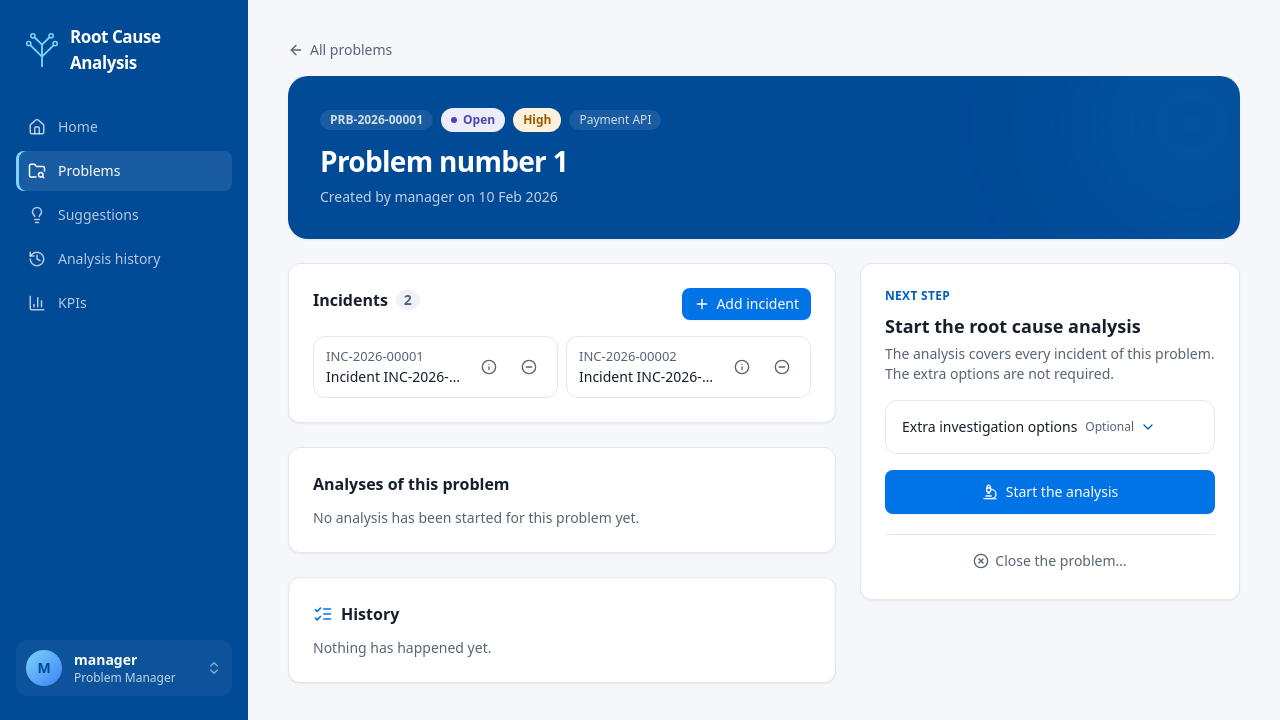
Test case: Problem page › keeps the dialog open and says why when the server refuses
The width and height of the screenshot is (1280, 720).
Click the button "Close the problem…".
click(1050, 561)  # box 965,547 -> 1135,575
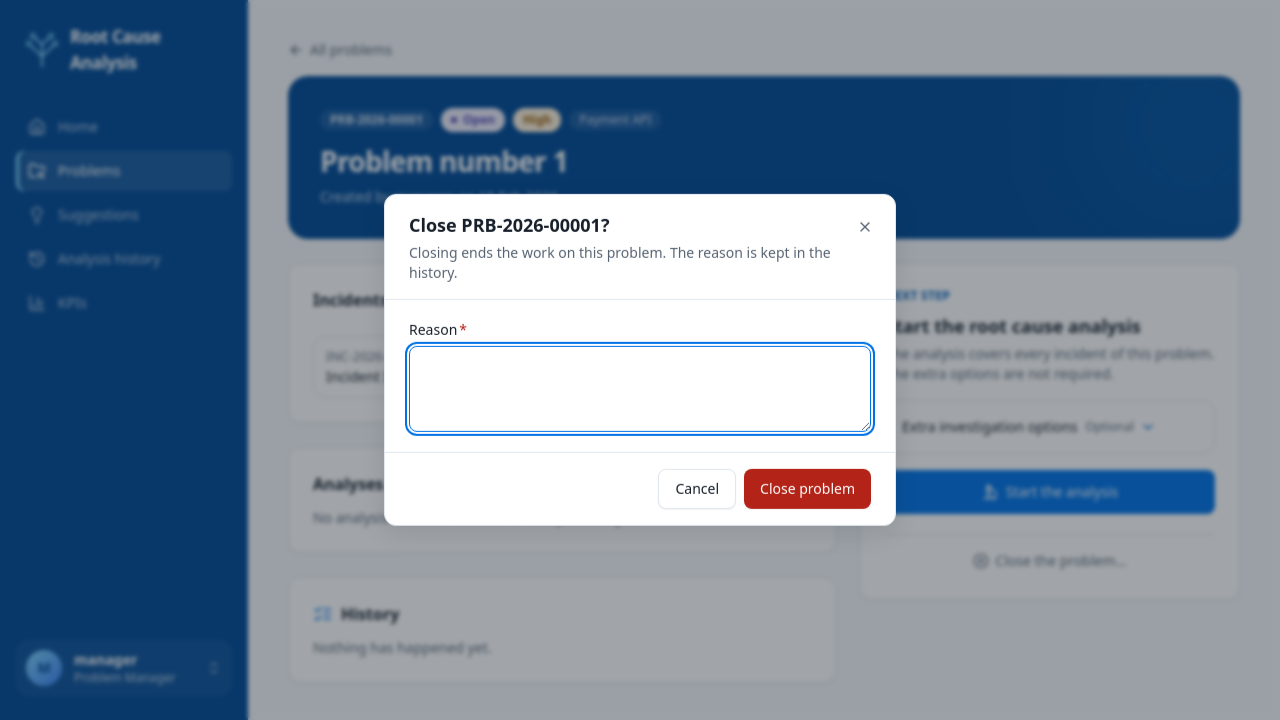
Type "Duplicate" into the text box labelled "Reason*".
click(640, 389); type("Duplicate")  # box 409,346 -> 871,432
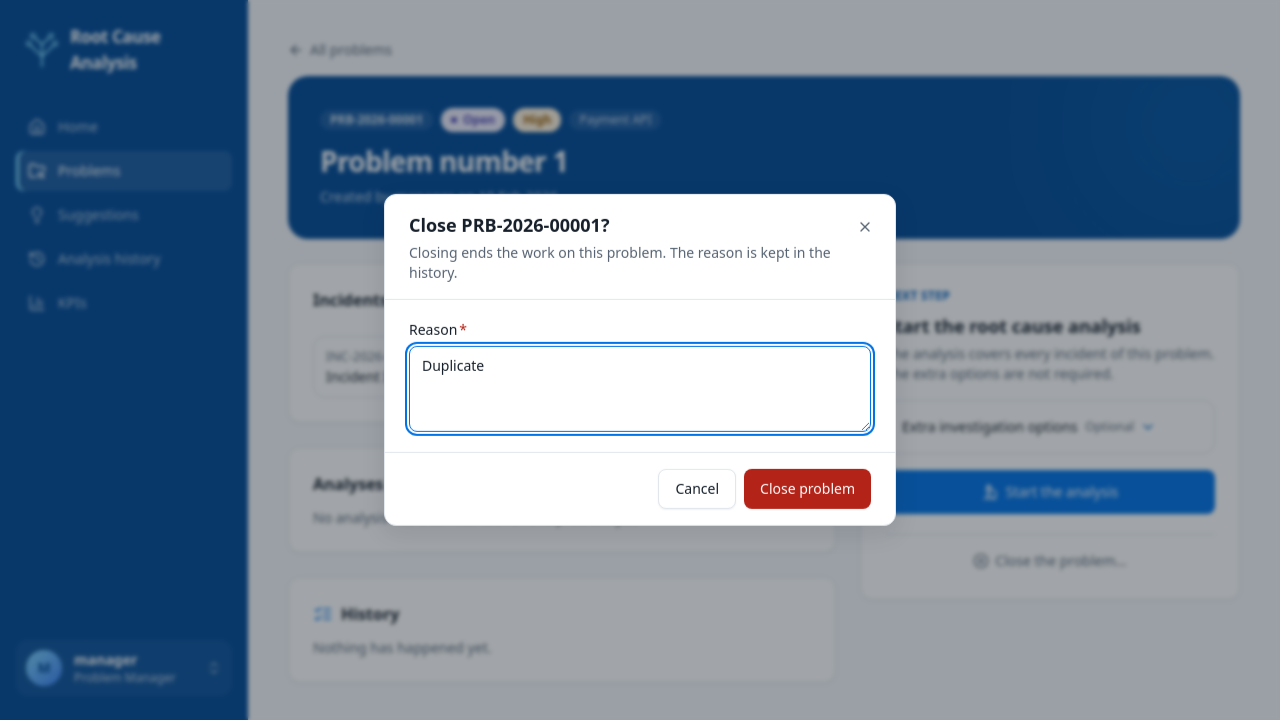
Click the button "Close problem".
click(808, 489)  # box 744,469 -> 871,509
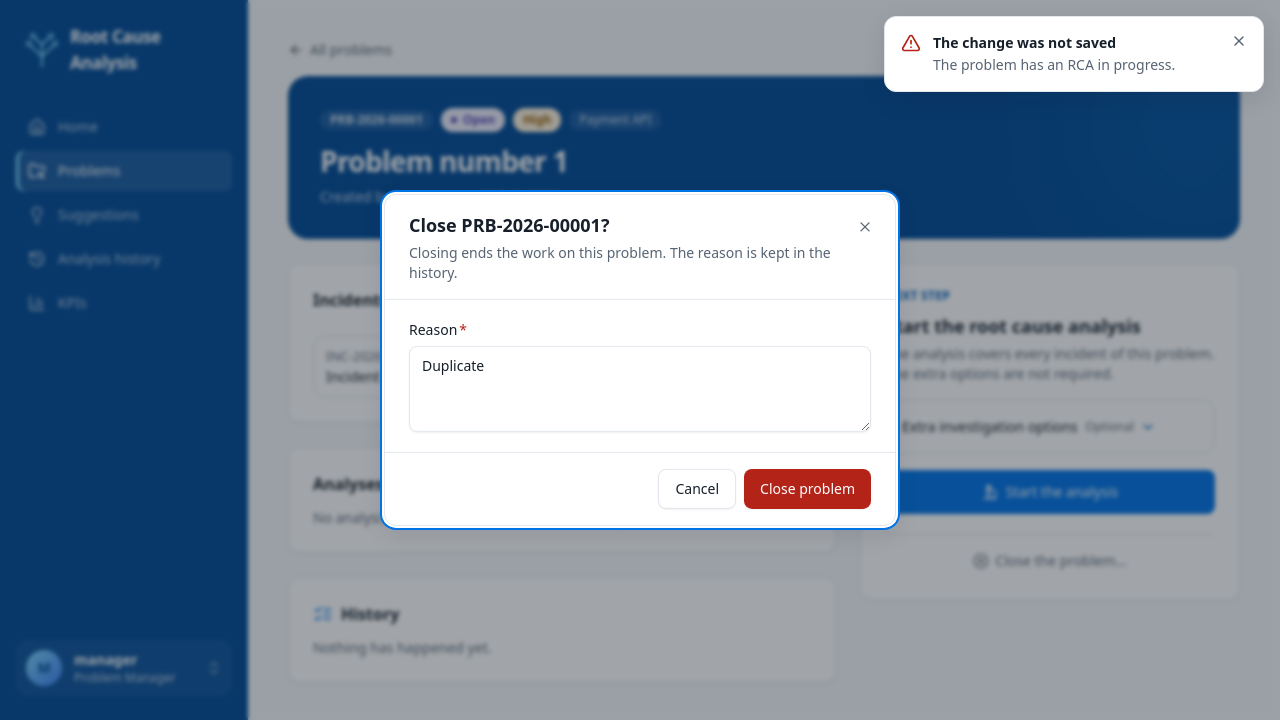
Expected: the dialog is shown, 384,194 -> 896,526
Expected: the text "The problem has an RCA in progress." is shown, 933,55 -> 1175,74
